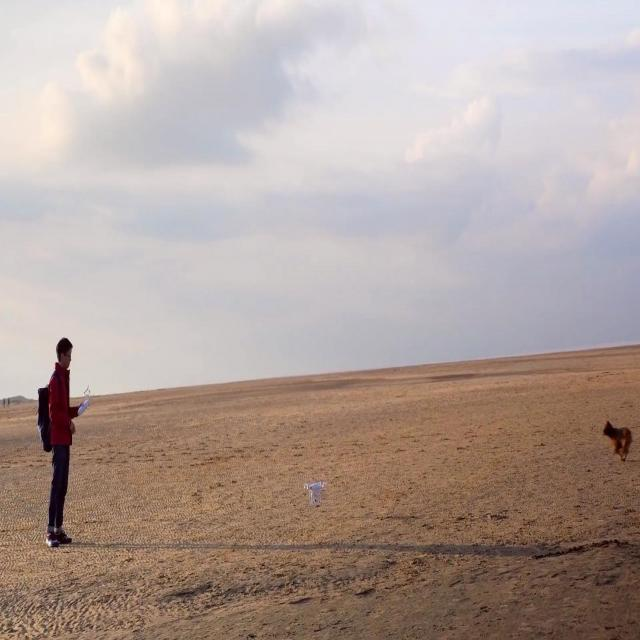drones: (299, 475, 333, 513)
